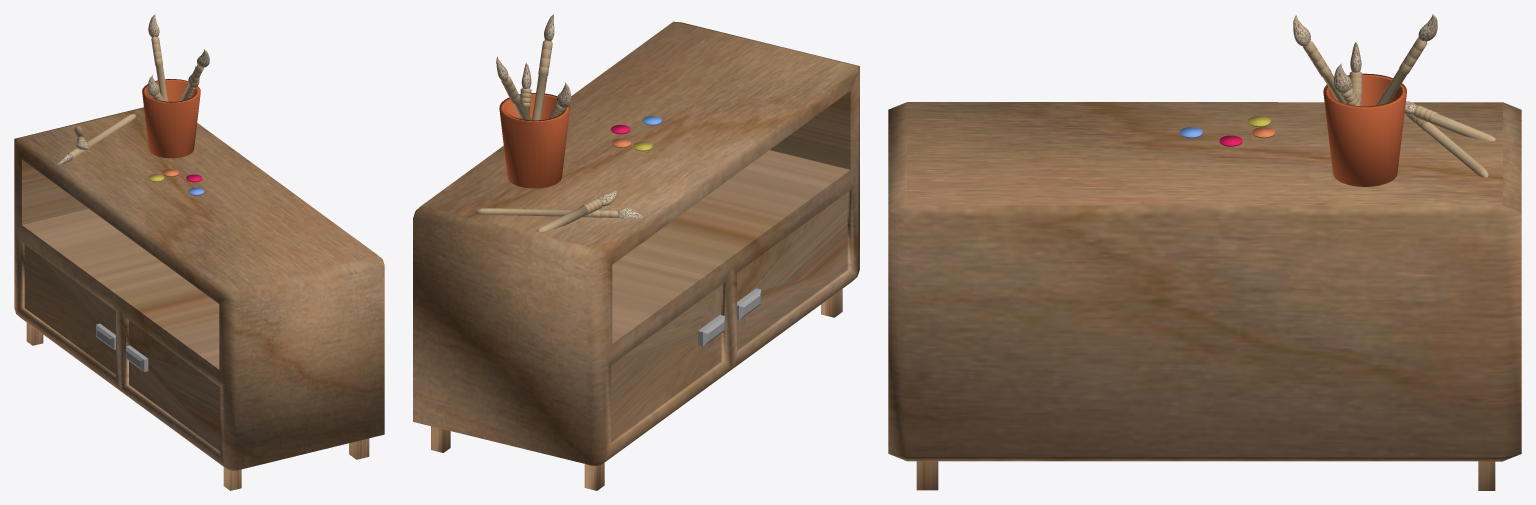
The model's file is mesita habitaciongrande.fbx.
3 renders of one model, left to right at view 1: azimuth 30°, elevation 25°; view 2: azimuth 150°, elevation 25°; view 3: azimuth 270°, elevation 25°, orthographic. The views are drawn at different scales.
Parts seen in each view (by area): view 1: Cube.025, Cylinder.015, Cylinder.007, Cylinder.005, Circle.002; view 2: Cube.025, Cylinder.015, Cylinder.007, Cylinder.005, Circle.002; view 3: Cube.025, Cylinder.015, Cylinder.007, Cylinder.005, Circle.002.
Part boxes in pixels (x1,y1,x2,y2): Cube.025: (14,107,384,490); Cylinder.015: (142,79,200,158); Cylinder.007: (68,36,203,158); Cylinder.005: (57,14,209,164); Circle.002: (148,169,204,195); Cube.025: (413,21,859,490); Cylinder.015: (499,93,569,188); Cylinder.007: (475,40,618,231); Cylinder.005: (496,14,642,218); Circle.002: (611,116,661,151); Cube.025: (888,102,1521,490); Cylinder.015: (1323,73,1406,186); Cylinder.007: (1303,37,1496,177); Cylinder.005: (1293,14,1437,114); Circle.002: (1179,116,1274,146).
Size of the model in its own units: 248 by 471 by 595.
